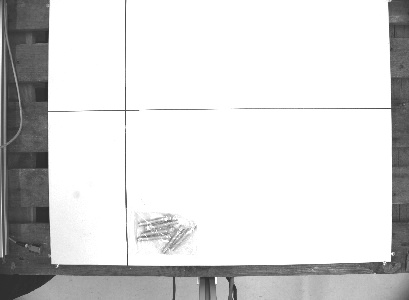t2: (122, 203, 207, 261)
